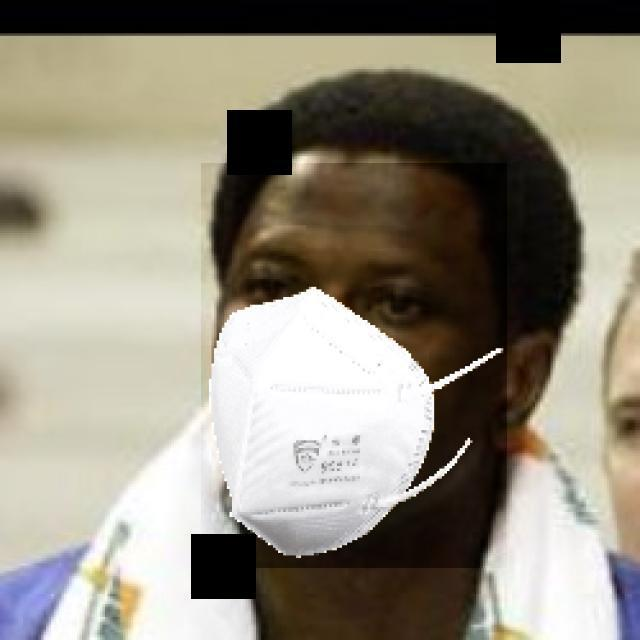kn95: (202, 163, 508, 568)
